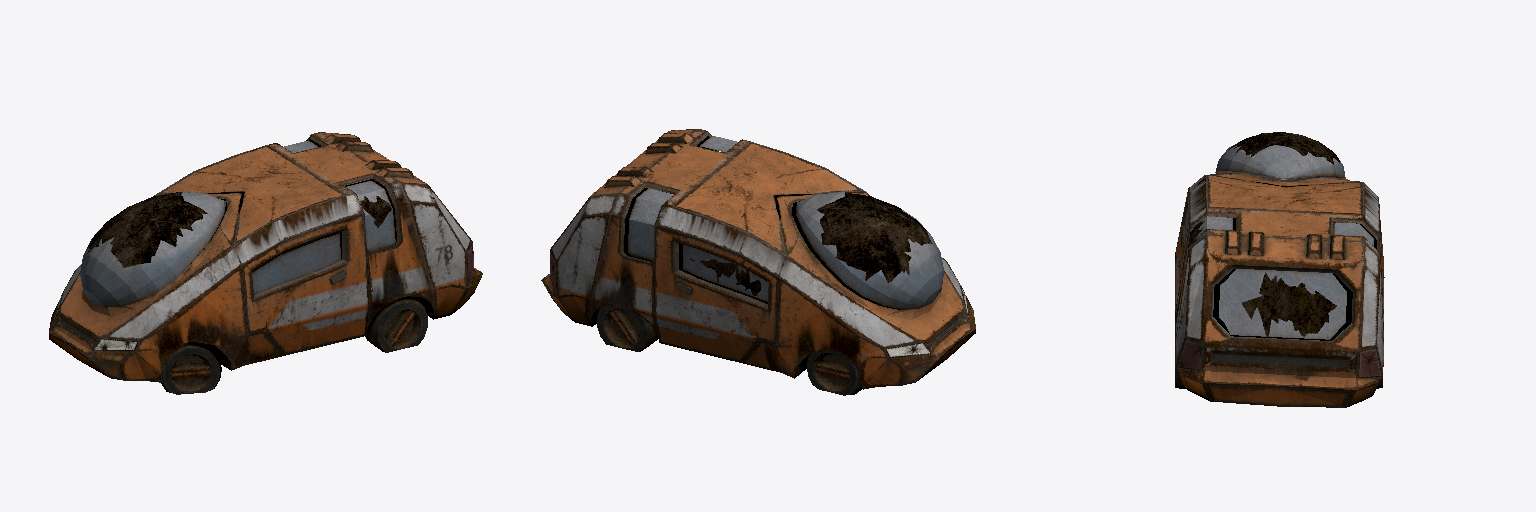
3 views of the same model, side by side, from view 1: azimuth 30°, elevation 25°; view 2: azimuth 150°, elevation 25°; view 3: azimuth 270°, elevation 25° (orthographic).
Parts seen in each view (by area): view 1: Object004, Object005; view 2: Object004, Object005; view 3: Object004, Object005.
Boxes of the visible parts, <box> form: Object004: <box>49,132,482,394</box>; Object005: <box>80,140,395,307</box>; Object004: <box>541,129,975,395</box>; Object005: <box>628,136,943,309</box>; Object004: <box>1175,173,1384,407</box>; Object005: <box>1185,132,1373,339</box>.
Size of the model in its own units: 7.1 by 2.8 by 3.41.
1 materials, 1 textured.